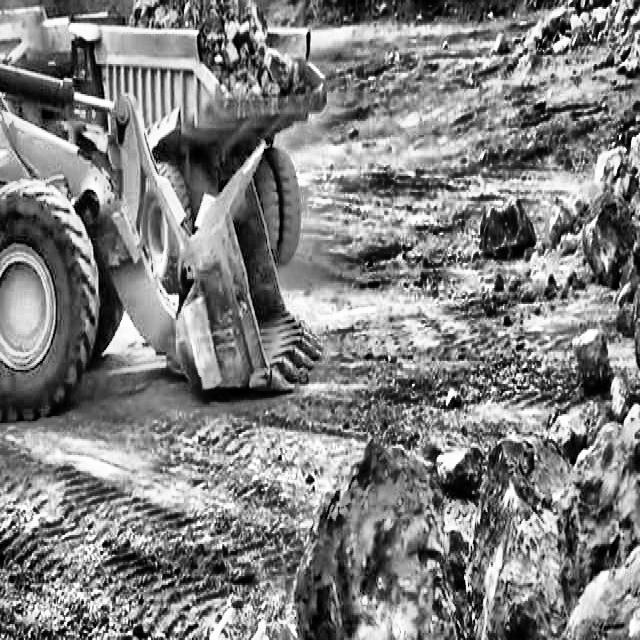buldozerpayloadergrader: (0, 0, 323, 430)
dump_truck: (70, 3, 319, 262)
